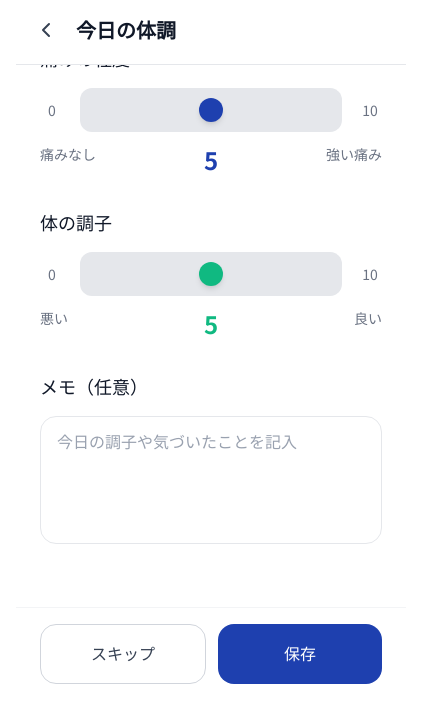
U-14 ConditionInput › form submission › should show error message on API failure
(page scrolled)
Expected: the heading "今日の体調" is shown, [76,16,176,44]
Click the button "保存". click: click(300, 654)
box: [218,624,382,684]
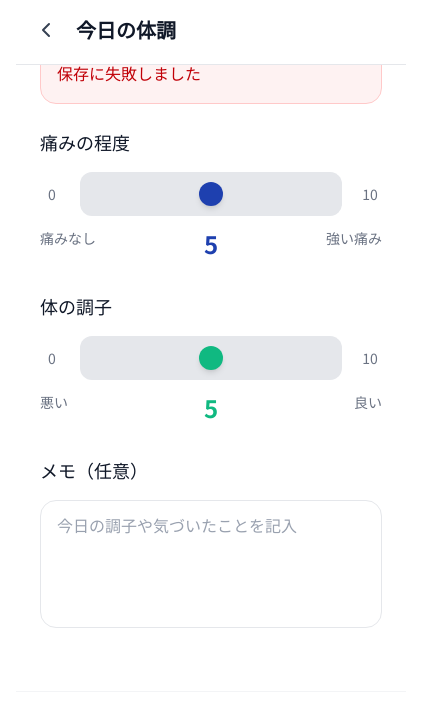
Expected: the message "保存に失敗しました" is shown, [40,44,382,104]
